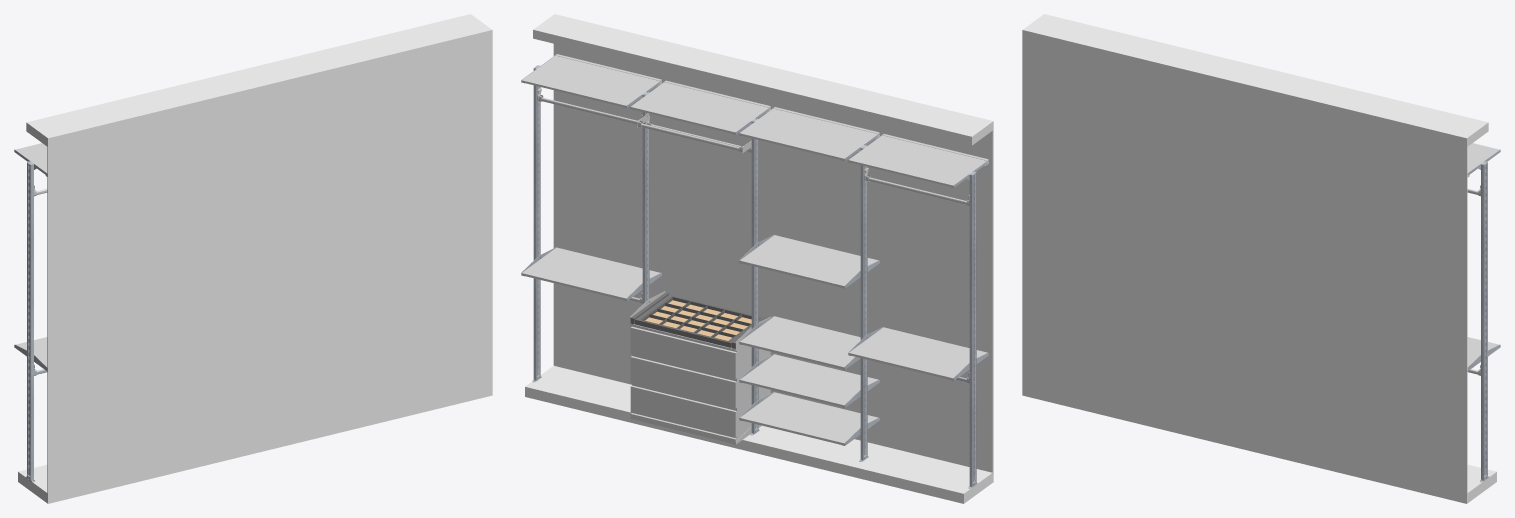
3 renders of one model, left to right at view 1: azimuth 30°, elevation 25°; view 2: azimuth 150°, elevation 25°; view 3: azimuth 330°, elevation 25°, orthographic.
Parts seen in each view (by area): view 1: Geom3D (×2), Geom3D_Geom3D_组件#16_Defintion#7_Geom3D_组件#16; view 2: Geom3D (×8), Geom3D_Geom3D_组件#4_柜子 copy 002_Defintion#1_Geom3D_组件#4_柜子 co, Geom3D_Geom3D_组件#16_Defintion#7_Geom3D_组件#16, Geom3D_Geom3D_组件#16_Defintion5_Geom3D_组件#16, Geom3D_Geom3D_组件#16_Defintion28_Geom3D_组件#16, Geom3D_Geom3D_组件#16_Defintion13_Geom3D_组件#16, Geom3D_Geom3D_组件#15_Defintion#4_Geom3D_组件#15, Geom3D_Geom3D_组件#15_Defintion#6_Geom3D_组件#15, Geom3D_Geom3D_组件#15_Defintion#7_Geom3D_组件#15, Geom3D_Geom3D_组件#15_Defintion29_Geom3D_组件#15, Geom3D_Geom3D_组件#15_Defintion33_Geom3D_组件#15, Geom3D_Geom3D_组件#15_Defintion#5_Geom3D_组件#15 (+2 smaller); view 3: Geom3D (×2), Geom3D_Geom3D_组件#16_Defintion28_Geom3D_组件#16.
Part boxes in pixels (x1=…): Geom3D (×2): x1=18, y1=14, x2=492, y2=503; Geom3D_Geom3D_组件#16_Defintion#7_Geom3D_组件#16: x1=15, y1=143, x2=47, y2=176; Geom3D (×8): x1=525, y1=14, x2=993, y2=503; Geom3D_Geom3D_组件#4_柜子 copy 002_Defintion#1_Geom3D_组件#4_柜子 co: x1=630, y1=324, x2=770, y2=444; Geom3D_Geom3D_组件#16_Defintion#7_Geom3D_组件#16: x1=848, y1=134, x2=988, y2=187; Geom3D_Geom3D_组件#16_Defintion5_Geom3D_组件#16: x1=739, y1=107, x2=879, y2=160; Geom3D_Geom3D_组件#16_Defintion28_Geom3D_组件#16: x1=521, y1=54, x2=661, y2=107; Geom3D_Geom3D_组件#16_Defintion13_Geom3D_组件#16: x1=630, y1=80, x2=770, y2=134; Geom3D_Geom3D_组件#15_Defintion#4_Geom3D_组件#15: x1=848, y1=327, x2=987, y2=380; Geom3D_Geom3D_组件#15_Defintion#6_Geom3D_组件#15: x1=739, y1=392, x2=878, y2=445; Geom3D_Geom3D_组件#15_Defintion#7_Geom3D_组件#15: x1=739, y1=354, x2=878, y2=407; Geom3D_Geom3D_组件#15_Defintion29_Geom3D_组件#15: x1=521, y1=247, x2=660, y2=300; Geom3D_Geom3D_组件#15_Defintion33_Geom3D_组件#15: x1=739, y1=235, x2=878, y2=288; Geom3D_Geom3D_组件#15_Defintion#5_Geom3D_组件#15: x1=739, y1=316, x2=860, y2=369; Geom3D (×2): x1=1022, y1=14, x2=1496, y2=503; Geom3D_Geom3D_组件#16_Defintion28_Geom3D_组件#16: x1=1467, y1=143, x2=1499, y2=177.
Size of the model in its own units: 3.63 by 2.85 by 0.5216.
Materials: 4 (1 with a texture image).
